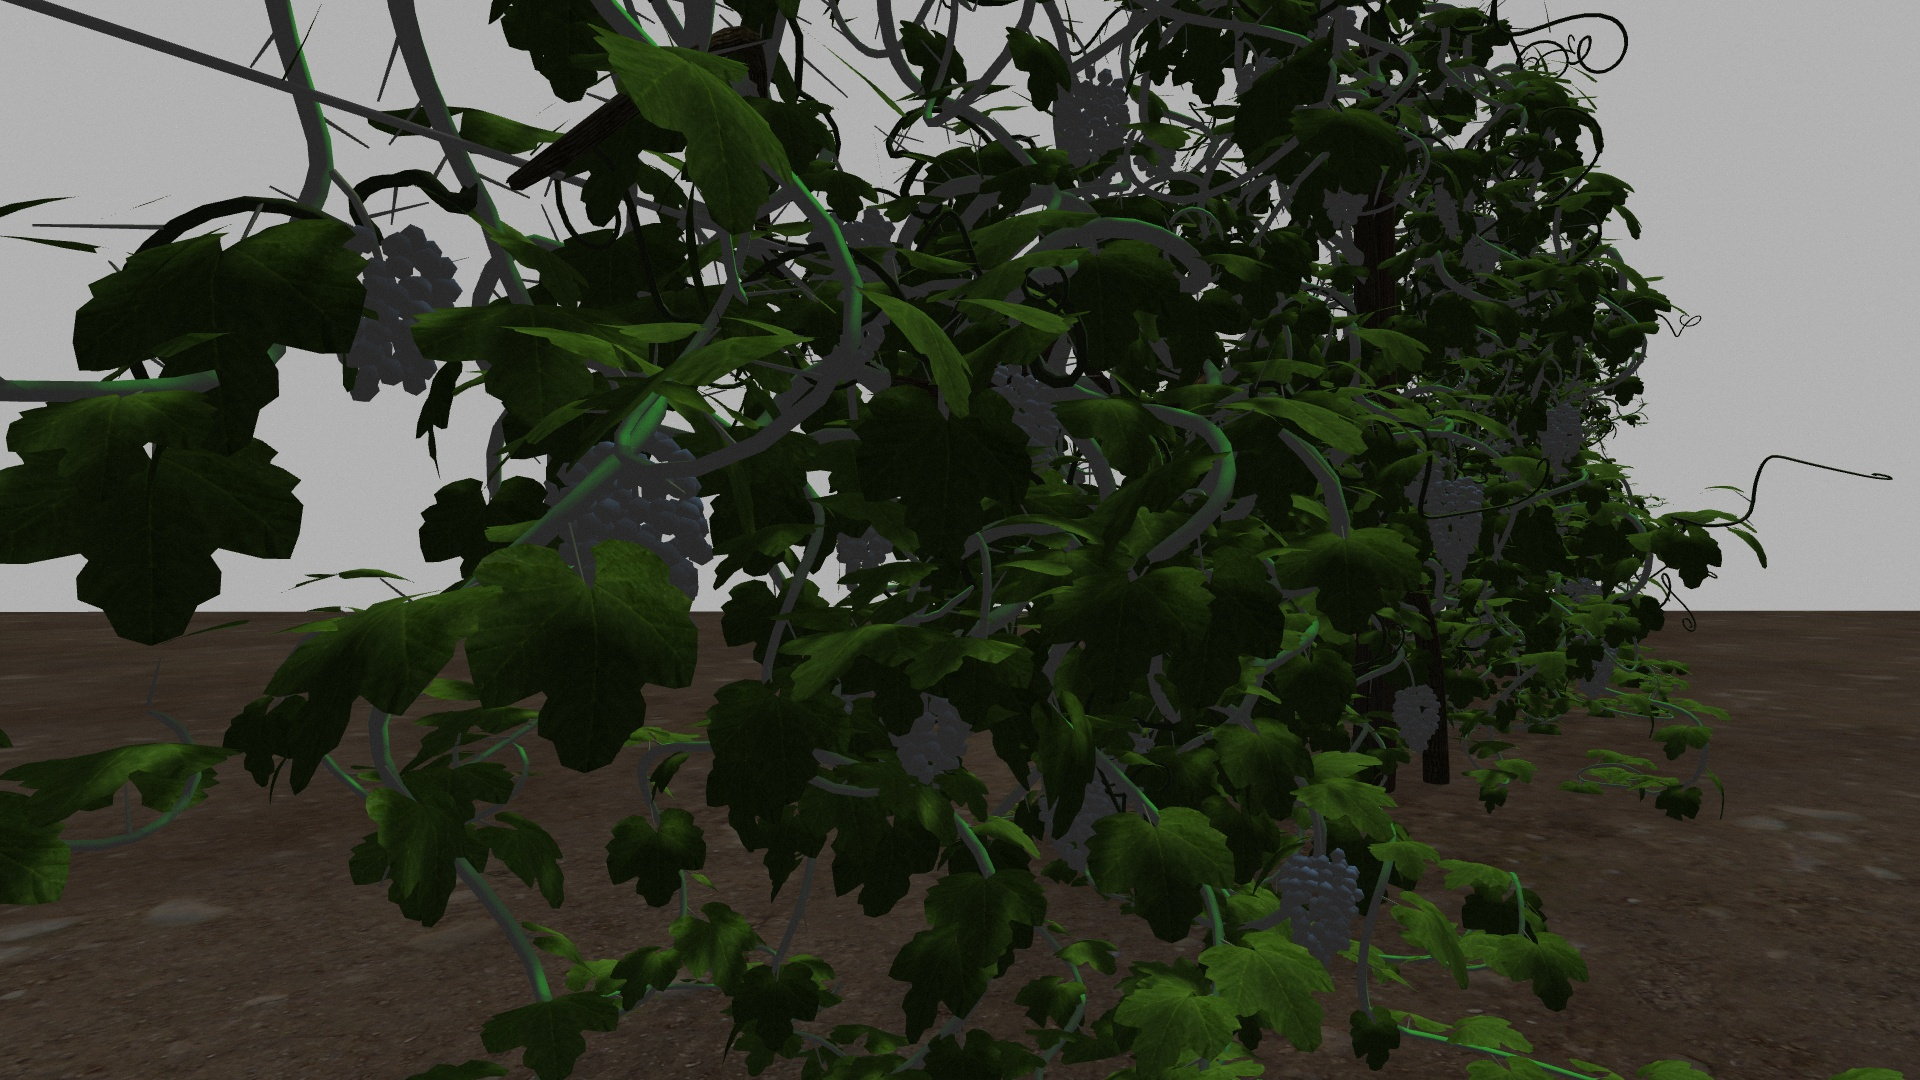grape: (547, 429, 712, 599), (339, 222, 460, 404), (1055, 69, 1134, 204), (1276, 849, 1365, 969), (886, 694, 976, 789), (1422, 480, 1487, 593), (1391, 683, 1443, 760), (1538, 401, 1585, 473), (1433, 175, 1477, 244), (1461, 215, 1505, 282), (1577, 641, 1619, 702)
